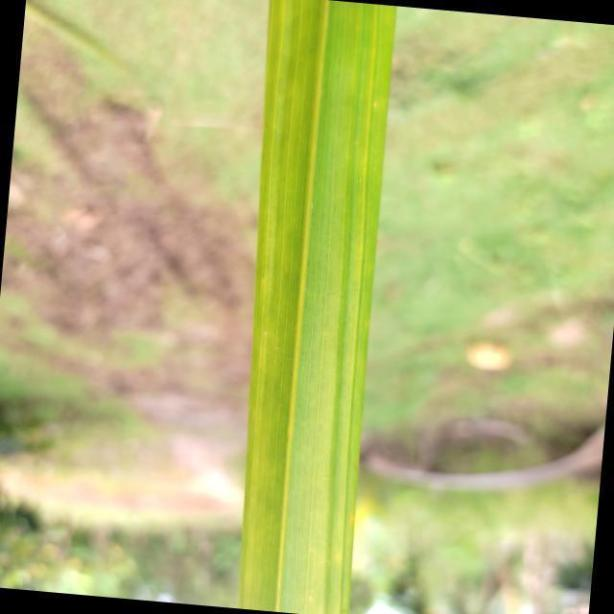nitrogen: (238, 0, 395, 614)
